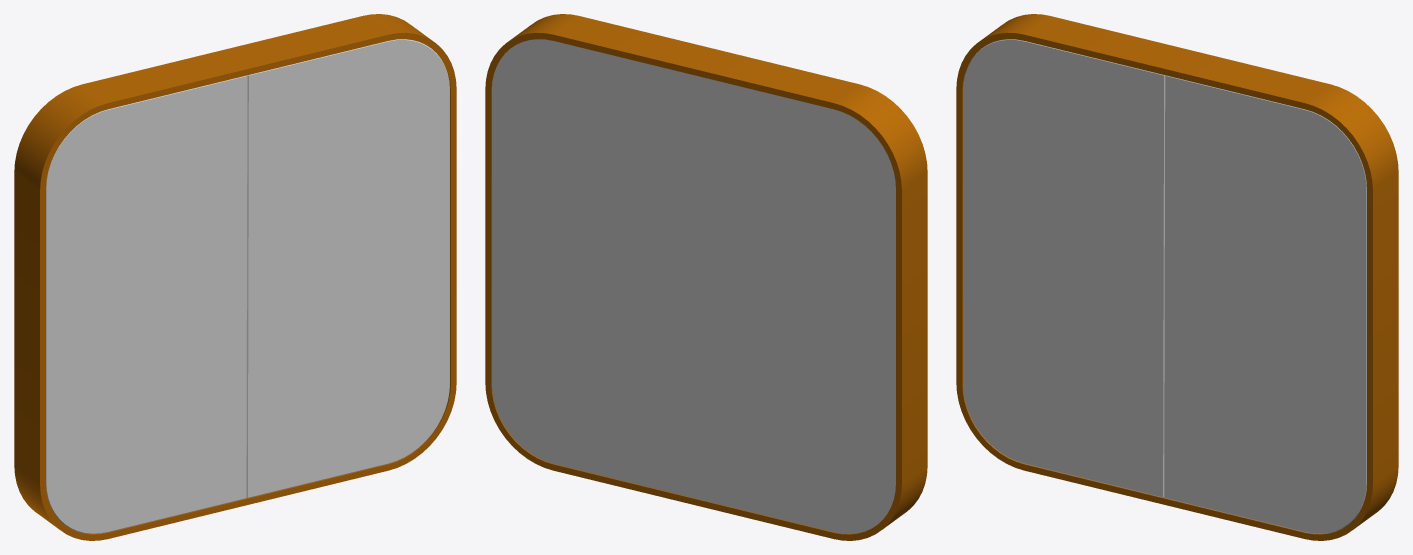
The model's file is UI_Design.fbx.
3 renders of one model, left to right at view 1: azimuth 30°, elevation 25°; view 2: azimuth 150°, elevation 25°; view 3: azimuth 330°, elevation 25°, orthographic.
Visible parts, largest first — view 1: door.001, door, Plane; view 2: Plane.005, Plane; view 3: door.001, door, Plane.
Part boxes in pixels (x1,y1,x2,y2): door.001: (246, 39, 449, 498); door: (46, 75, 247, 533); Plane: (14, 14, 456, 540); Plane.005: (492, 39, 895, 533); Plane: (485, 14, 927, 540); door.001: (1164, 75, 1366, 533); door: (963, 39, 1165, 497); Plane: (956, 14, 1398, 540).
Bounding box in the file's own units: 146 × 146 × 15.55.
